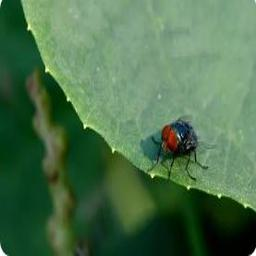liriomyza: (147, 114, 219, 184)
